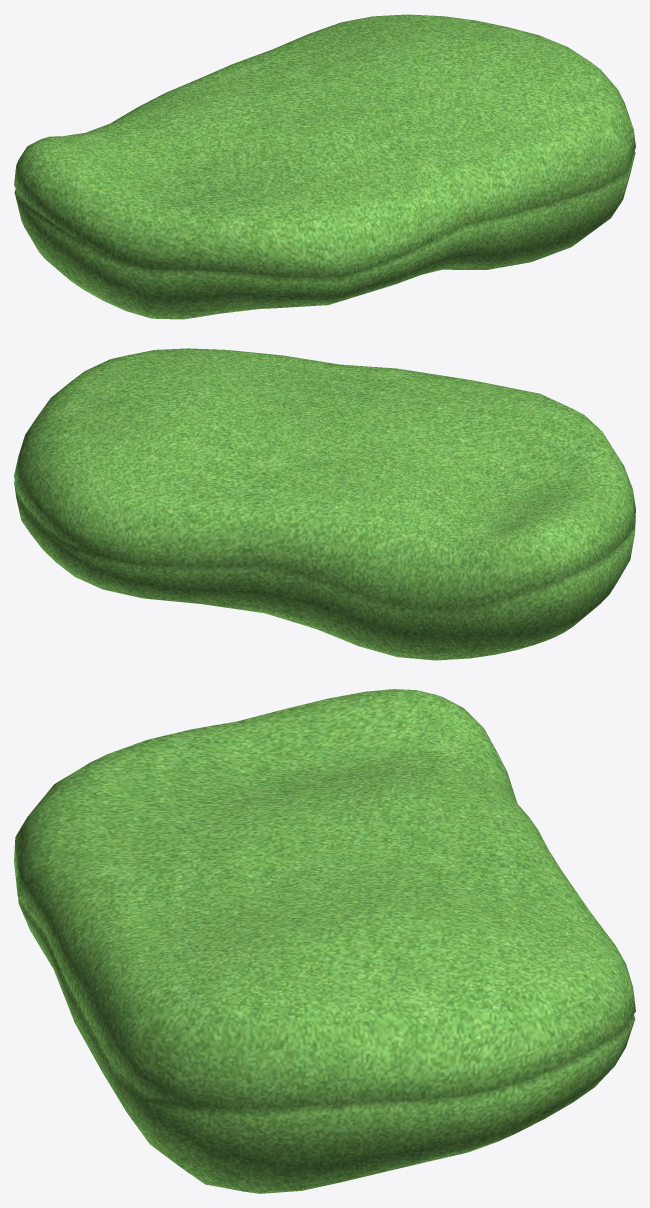
The model's file is BeanGreen.fbx.
3 views of the same model, one above another, from view 1: azimuth 30°, elevation 25°; view 2: azimuth 150°, elevation 25°; view 3: azimuth 270°, elevation 25° (orthographic). The views are drawn at different scales.
Visible parts, largest first — view 1: mesh-0.001; view 2: mesh-0.001; view 3: mesh-0.001.
Boxes of the visible parts, <box> form: mesh-0.001: <box>14,14,635,319</box>; mesh-0.001: <box>14,348,635,660</box>; mesh-0.001: <box>14,689,635,1193</box>.
Bounding box in the file's own units: 791417 × 232308 × 576055.
1 material, 1 textured.
